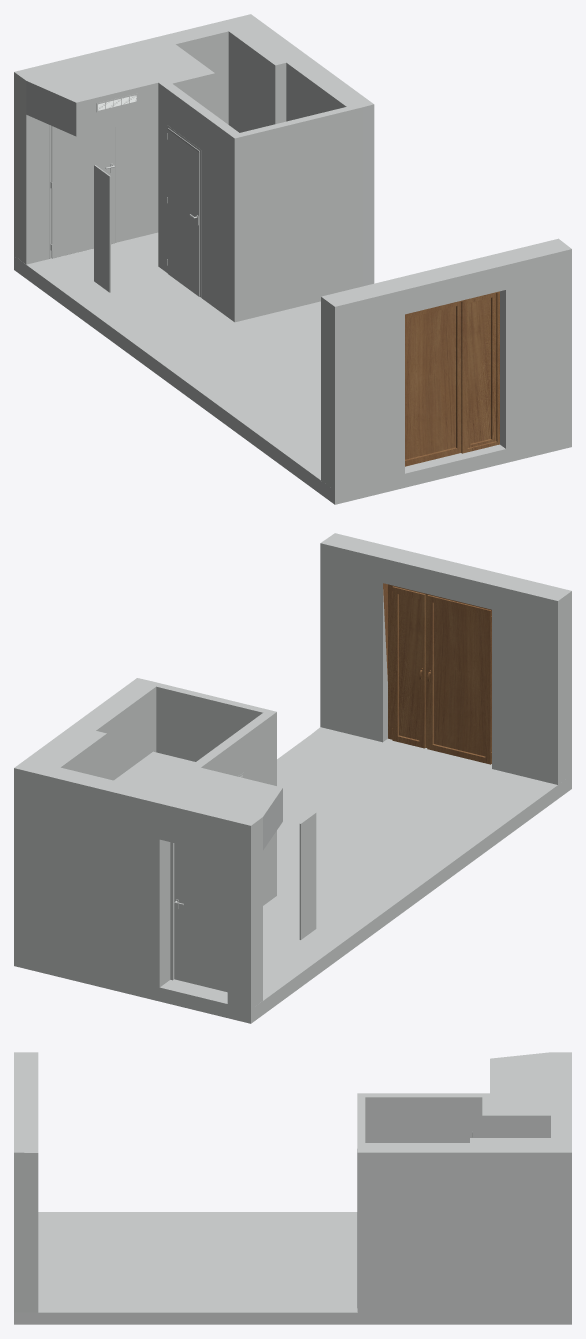
The model's file is Room_02.gltf.
3 renders of one model, top to bottom at view 1: azimuth 30°, elevation 25°; view 2: azimuth 150°, elevation 25°; view 3: azimuth 270°, elevation 25°, orthographic. The views are drawn at different scales.
Parts seen in each view (by area): view 1: Room Type 01, Door_01; view 2: Room Type 01, Door_01; view 3: Room Type 01.
Part boxes in pixels (<box>): Room Type 01: <box>14,14,571,504</box>; Door_01: <box>405,291,499,466</box>; Room Type 01: <box>14,533,571,1023</box>; Door_01: <box>383,583,491,764</box>; Room Type 01: <box>14,1052,571,1324</box>.
Size of the model in its own units: 3.53 by 2.81 by 8.26.
2 materials, 1 textured.
